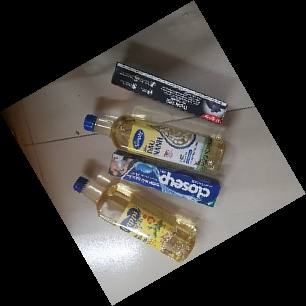CloseUp Tuyet: (107, 150, 222, 209)
Colgate Than: (109, 60, 229, 126)
Happy Soya: (73, 175, 197, 265)
Simply: (82, 113, 226, 175)
